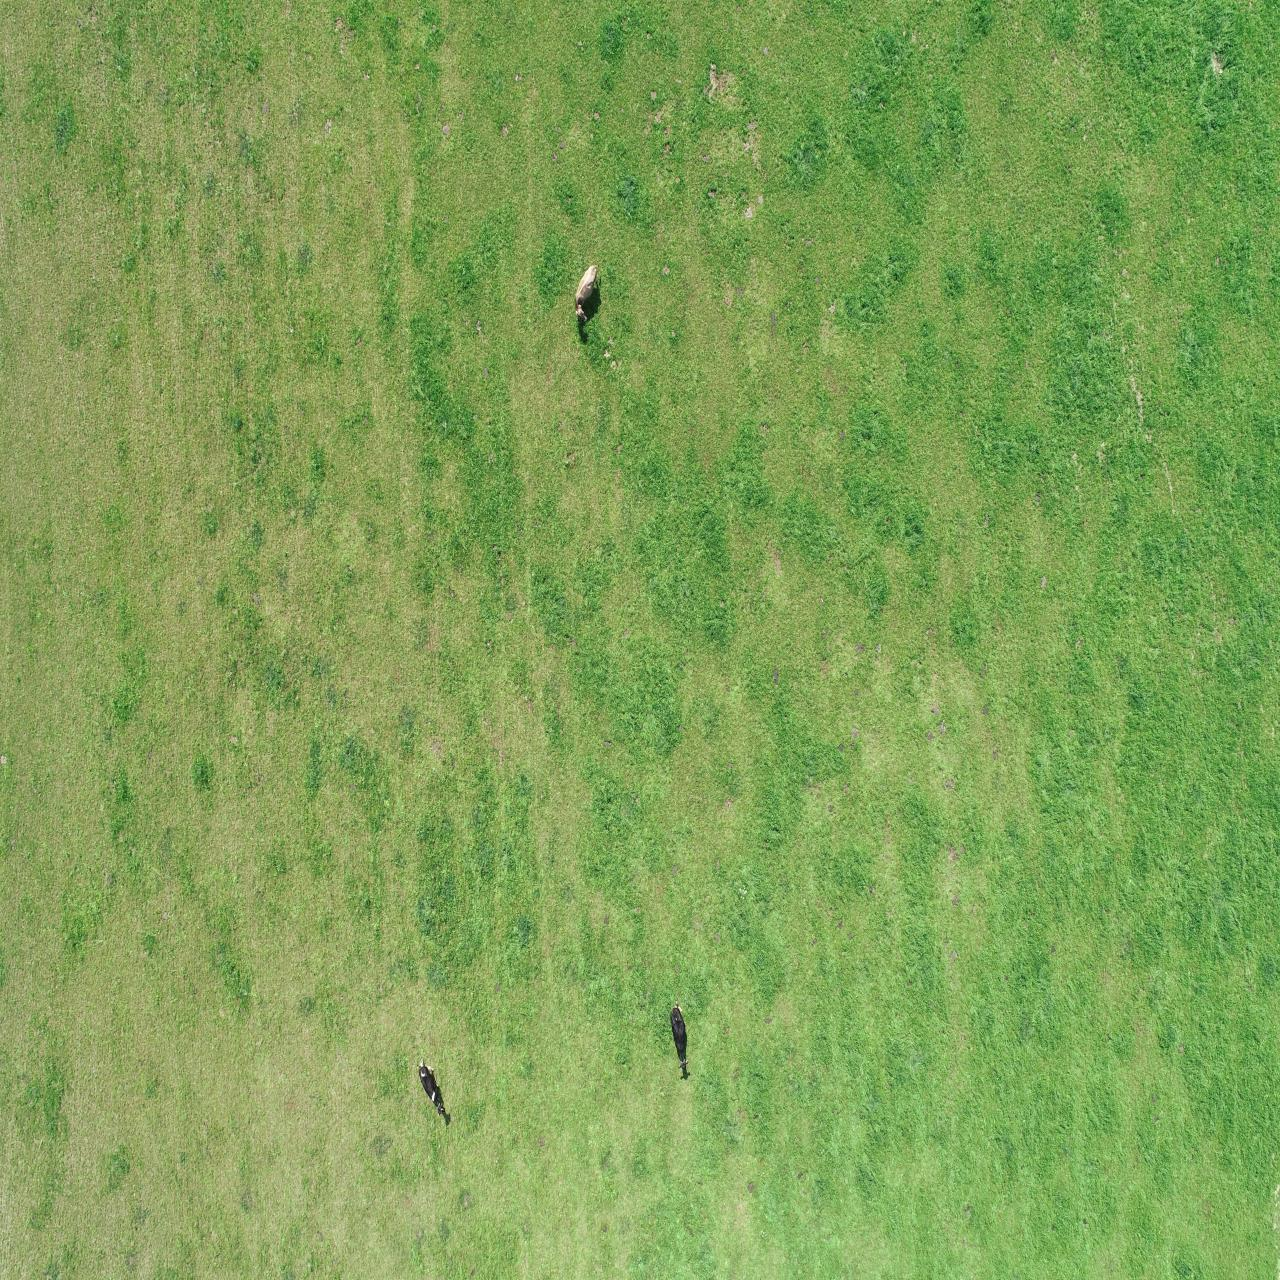cow: (415, 1055, 448, 1118), (668, 1000, 692, 1071), (573, 261, 600, 324)
